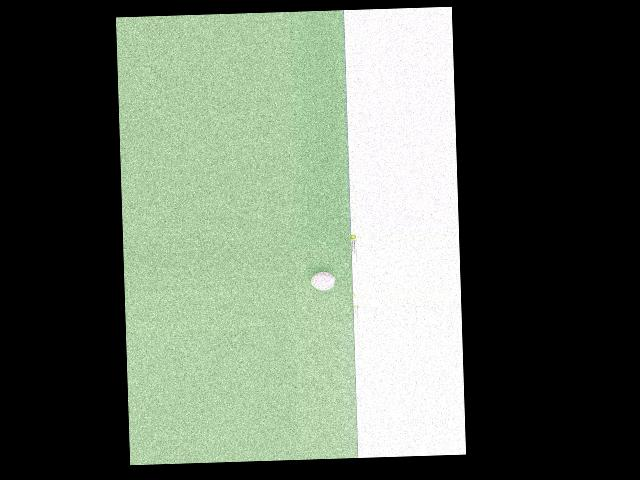egg: (311, 271, 335, 290)
